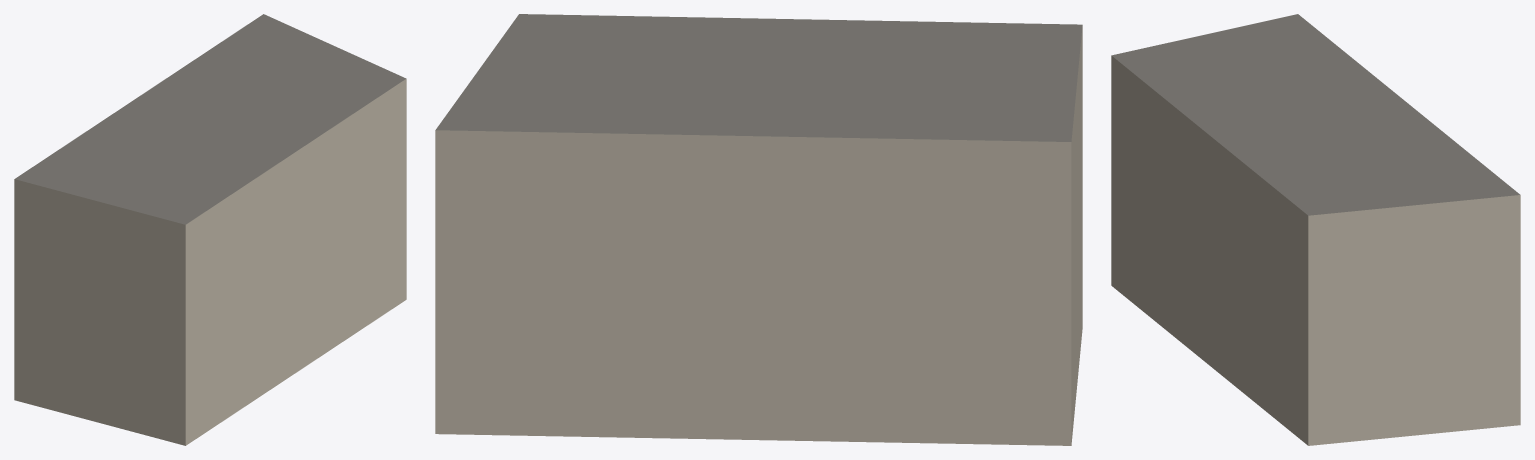
3 views of the same model, side by side, from view 1: azimuth 30°, elevation 25°; view 2: azimuth 150°, elevation 25°; view 3: azimuth 270°, elevation 25° (orthographic). The views are drawn at different scales.
Parts seen in each view (by area): view 1: HP-w731233904; view 2: HP-w731233904; view 3: HP-w731233904.
Boxes of the visible parts, <box> form: HP-w731233904: <box>14,14,406,445</box>; HP-w731233904: <box>435,14,1082,445</box>; HP-w731233904: <box>1111,14,1520,445</box>.
Bounding box in the file's own units: 33.82 × 18 × 28.99.
